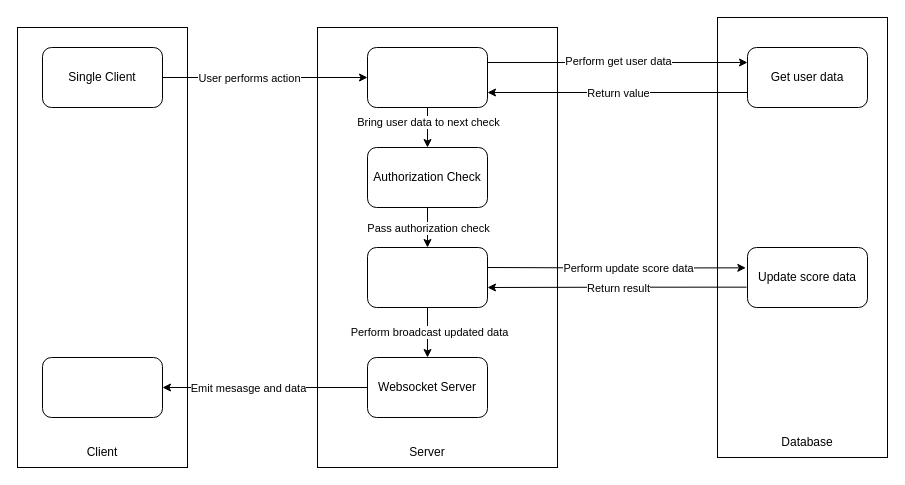
Some shapes in this 905 by 485 pixel diagram are drawn without their labels. The box of each missing label's shape, as (x1, y1, x2, y2) in pixels:
Authentication Check: (366, 46, 488, 108)
Other Clients: (42, 356, 162, 418)
Scoreboard Calculation (if needed): (366, 246, 488, 308)
